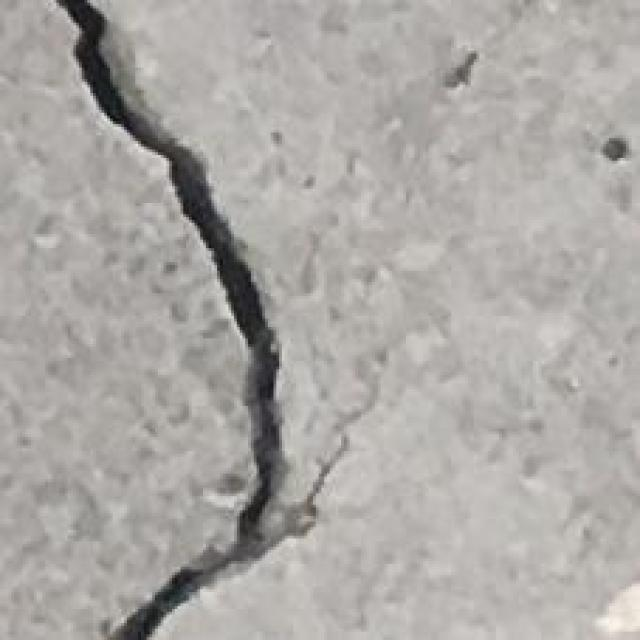Crack: (37, 3, 380, 640)
